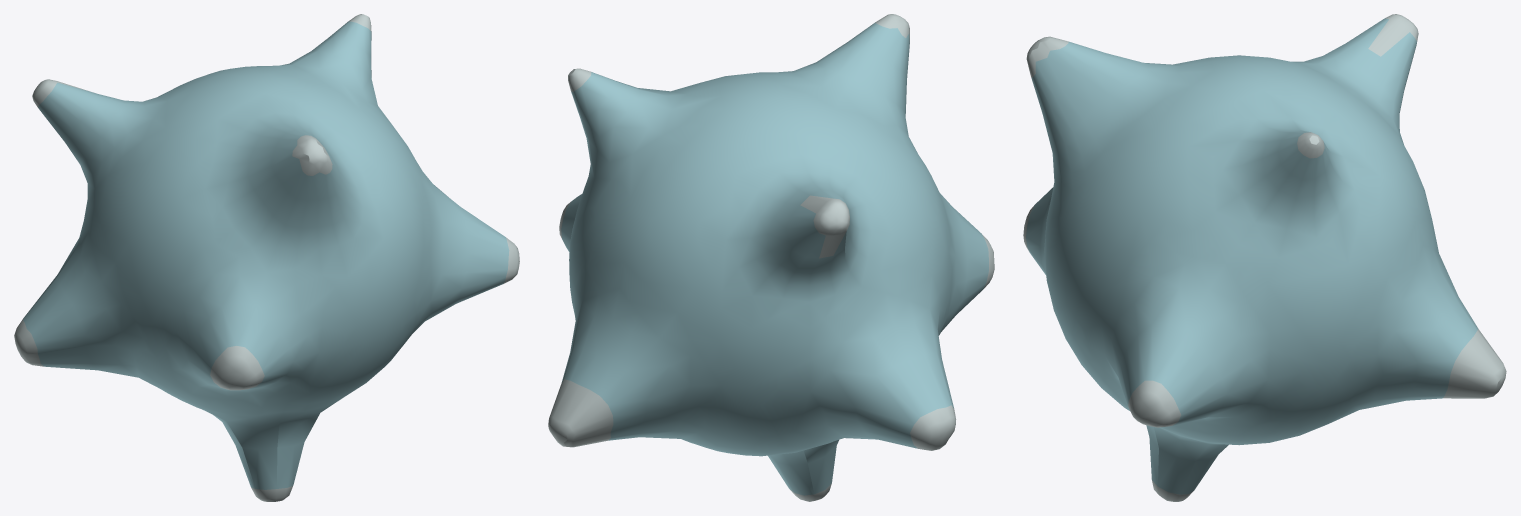
The model's file is Planet_4.glb.
The picture shows the model from 3 angles, left to right: view 1: azimuth 30°, elevation 25°; view 2: azimuth 150°, elevation 25°; view 3: azimuth 270°, elevation 25°; orthographic projection. The views are drawn at different scales.
Visible parts, largest first — view 1: Planet_4; view 2: Planet_4; view 3: Planet_4.
Boxes of the visible parts, x1=… form: Planet_4: x1=14, y1=14, x2=519, y2=501; Planet_4: x1=548, y1=14, x2=994, y2=501; Planet_4: x1=1023, y1=14, x2=1506, y2=501.
Size of the model in its own units: 4.49 by 4.09 by 3.96.
1 material, 1 textured.
